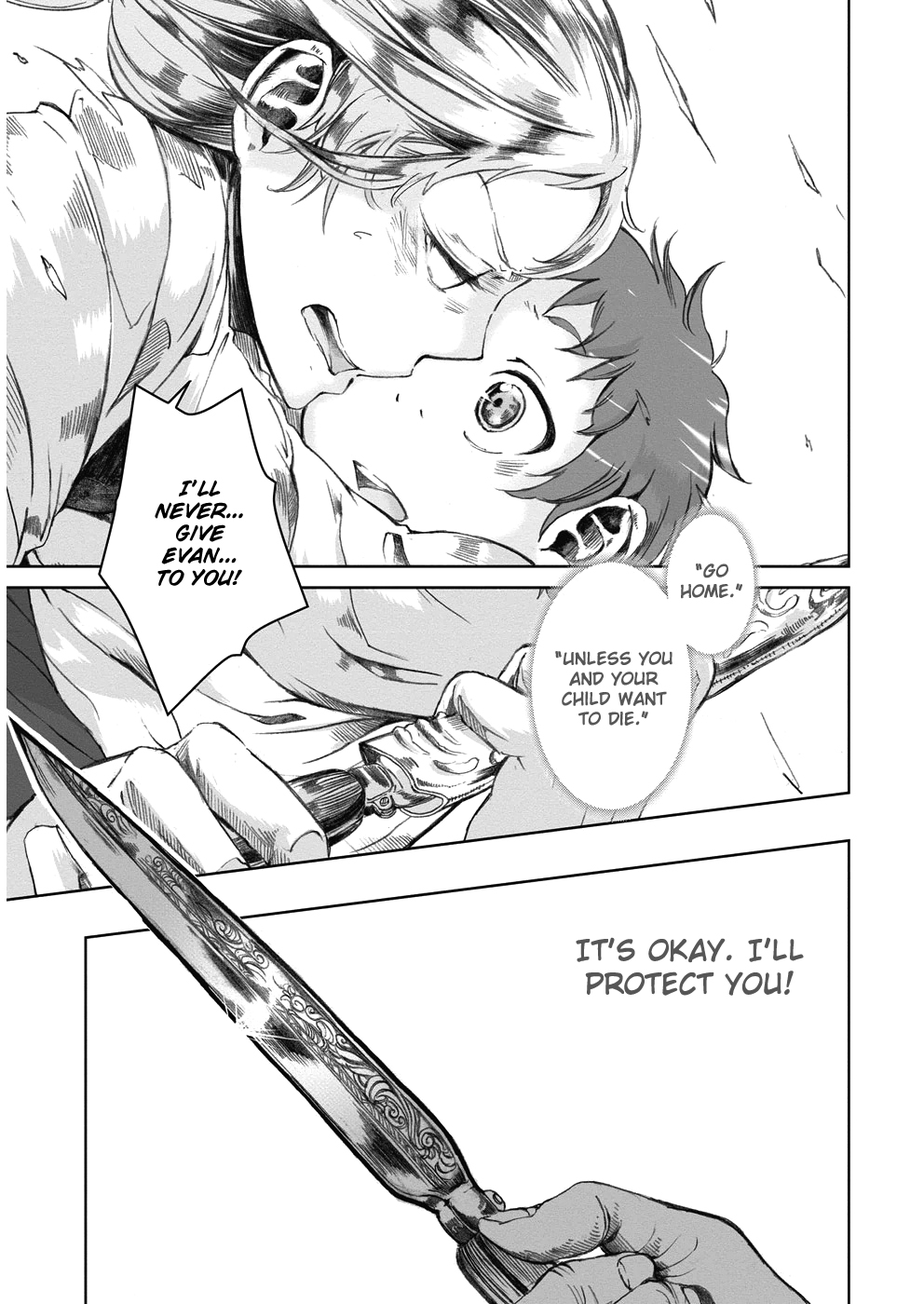bubble: (98, 381, 308, 717), (523, 556, 694, 816), (667, 511, 760, 655)
